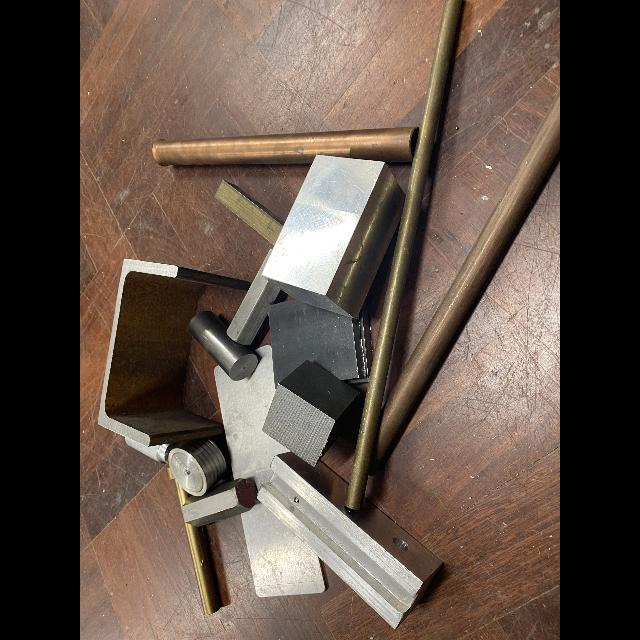Aluminium: (257, 452, 443, 629), (262, 154, 404, 318), (214, 345, 288, 487), (242, 505, 324, 597), (126, 439, 168, 462)
Brass: (345, 0, 461, 509), (214, 179, 283, 245), (185, 523, 220, 615), (176, 480, 189, 506), (167, 468, 174, 479)
Copper: (369, 89, 560, 474), (153, 126, 418, 166)
Ferrous Metal: (97, 259, 249, 446), (263, 360, 360, 466), (269, 299, 373, 389), (228, 250, 281, 344), (189, 311, 258, 380)
Stainless Steel: (182, 479, 257, 527), (167, 440, 227, 497)
